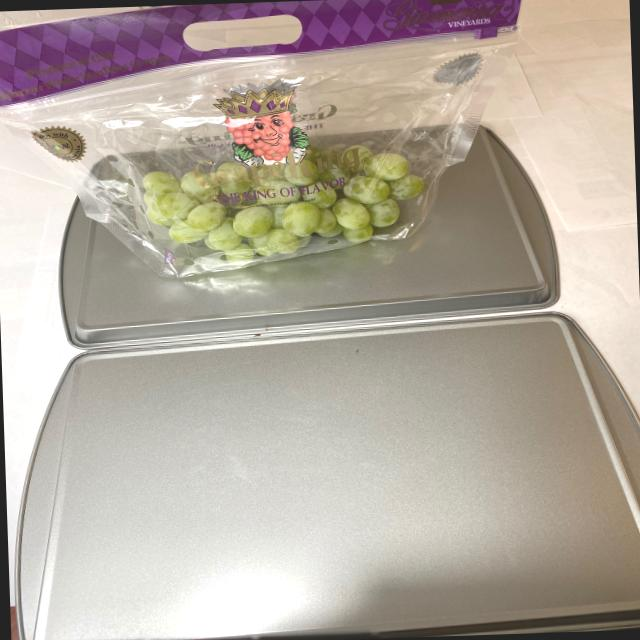grapes: (134, 134, 446, 276)
